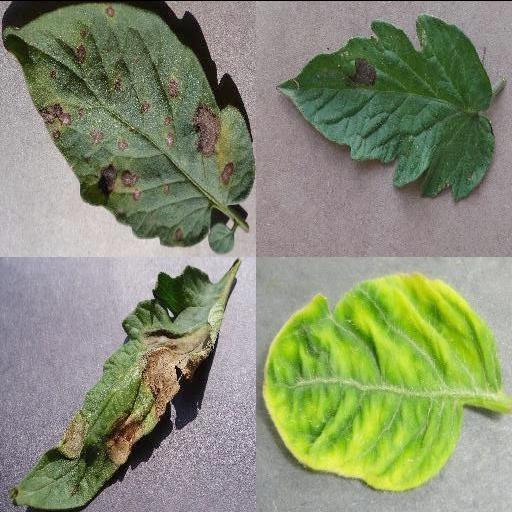Early Blight: (2, 1, 256, 246), (278, 10, 492, 200)
Late Blight: (7, 260, 243, 508)
Yellow Leaf Curl Virus: (259, 272, 501, 490)
